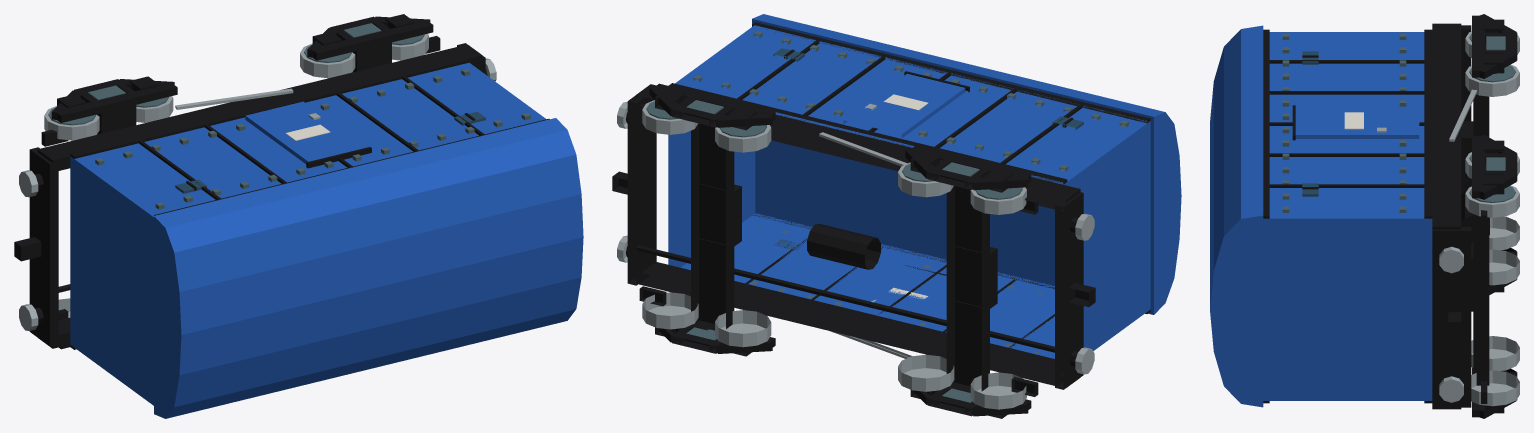
3 views of the same model, side by side, from view 1: azimuth 30°, elevation 25°; view 2: azimuth 150°, elevation 25°; view 3: azimuth 270°, elevation 25° (orthographic). The views are drawn at different scales.
Visible parts, largest first — view 1: default_roof, default_body, default_bogie-1, default_bogie1, default_solebar1, default_headstock-1, default_side1_-0.50_2.20, default_side1_-3.40_2.00, default_buffers-1, default_brake_lever1, default_side1_-3.40_4.50; view 2: default_body, default_roof, default_bogie1, default_bogie-1, default_solebar-1, default_headstock1, default_headstock-1, default_solebar1, default_side1_-0.50_2.20, default_brake_cylinder, default_brake_pipe, default_side1_-3.40_4.50 (+7 smaller); view 3: default_body, default_roof, default_bogie1, default_bogie-1, default_solebar1, default_headstock1, default_side1_-0.50_2.20, default_side1_-3.40_2.00, default_buffers1, default_side1_-3.40_4.50, default_headstock-1, default_pivot-1 (+7 smaller).
Boxes of the visible parts, x1,y1,x2,y2 form: default_roof: [154, 118, 583, 418]; default_body: [70, 62, 546, 405]; default_bogie-1: [44, 76, 177, 349]; default_bogie1: [300, 14, 433, 78]; default_solebar1: [37, 44, 482, 171]; default_headstock-1: [29, 147, 58, 346]; default_side1_-0.50_2.20: [245, 101, 365, 163]; default_side1_-3.40_2.00: [70, 57, 469, 158]; default_buffers-1: [14, 170, 43, 330]; default_brake_lever1: [175, 88, 293, 109]; default_side1_-3.40_4.50: [154, 119, 549, 215]; default_body: [668, 25, 1150, 358]; default_roof: [752, 14, 1181, 314]; default_bogie1: [642, 83, 775, 356]; default_bogie-1: [898, 146, 1031, 418]; default_solebar-1: [635, 262, 1076, 387]; default_headstock1: [627, 95, 656, 285]; default_headstock-1: [1055, 192, 1083, 389]; default_solebar1: [635, 84, 1080, 211]; default_side1_-0.50_2.20: [843, 73, 965, 138]; default_brake_cylinder: [807, 224, 880, 269]; default_brake_pipe: [636, 245, 1054, 352]; default_side1_-3.40_4.50: [752, 22, 1150, 123]; default_body: [1263, 32, 1432, 400]; default_roof: [1210, 25, 1263, 407]; default_bogie1: [1465, 135, 1519, 418]; default_bogie-1: [1465, 14, 1519, 294]; default_solebar1: [1432, 23, 1461, 229]; default_headstock1: [1432, 227, 1471, 407]; default_side1_-0.50_2.20: [1295, 107, 1419, 138]; default_side1_-3.40_2.00: [1424, 29, 1432, 218]; default_buffers1: [1439, 246, 1463, 402]; default_side1_-3.40_4.50: [1263, 29, 1269, 218]; default_headstock-1: [1461, 25, 1471, 194]; default_pivot-1: [1461, 121, 1473, 190].
Size of the model in its own units: 8.2 by 3.9 by 4.77.
